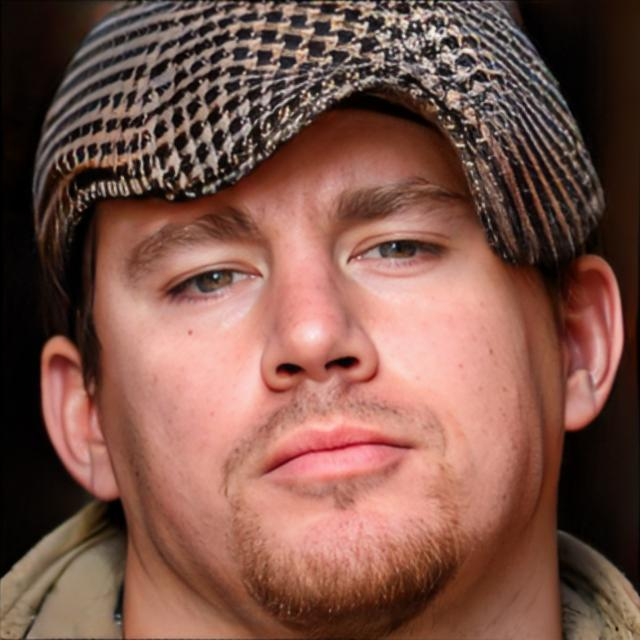anger: (100, 59, 550, 626)
